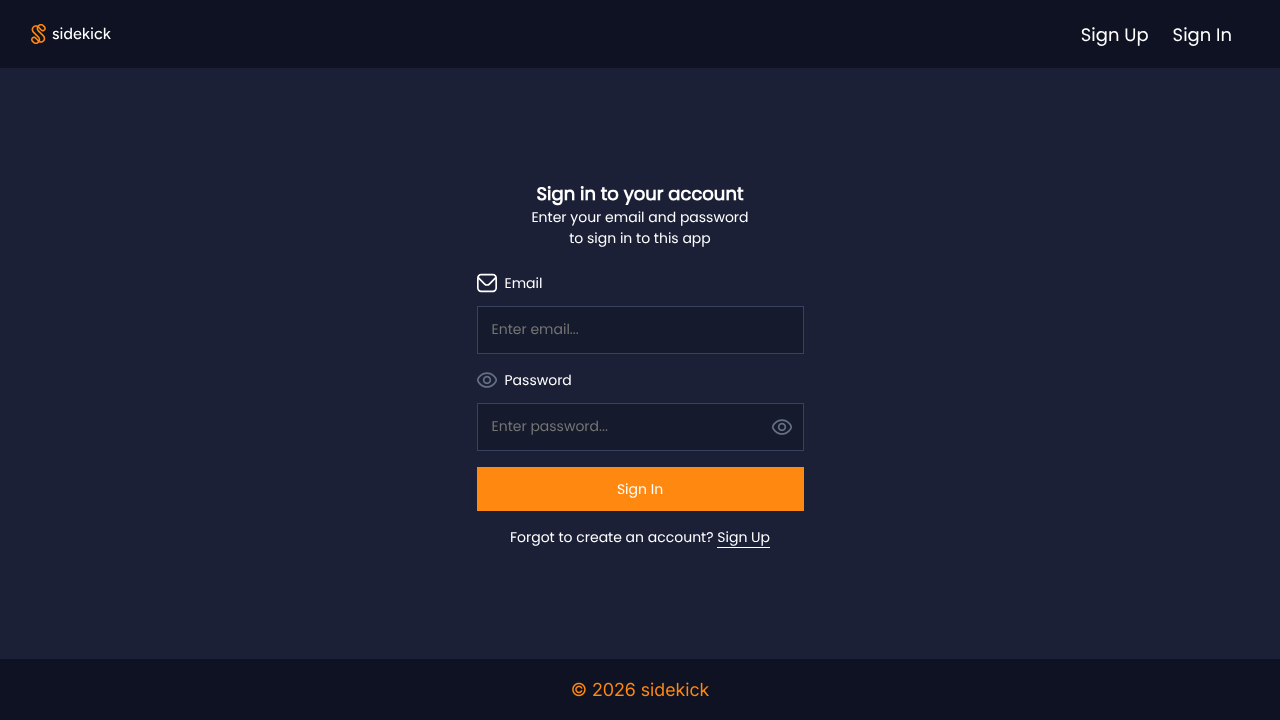
Sign In › shows validation when submitting empty form
This screenshot has width=1280, height=720.
Click the button "Sign In" at (641, 489), box [477,467,804,511]
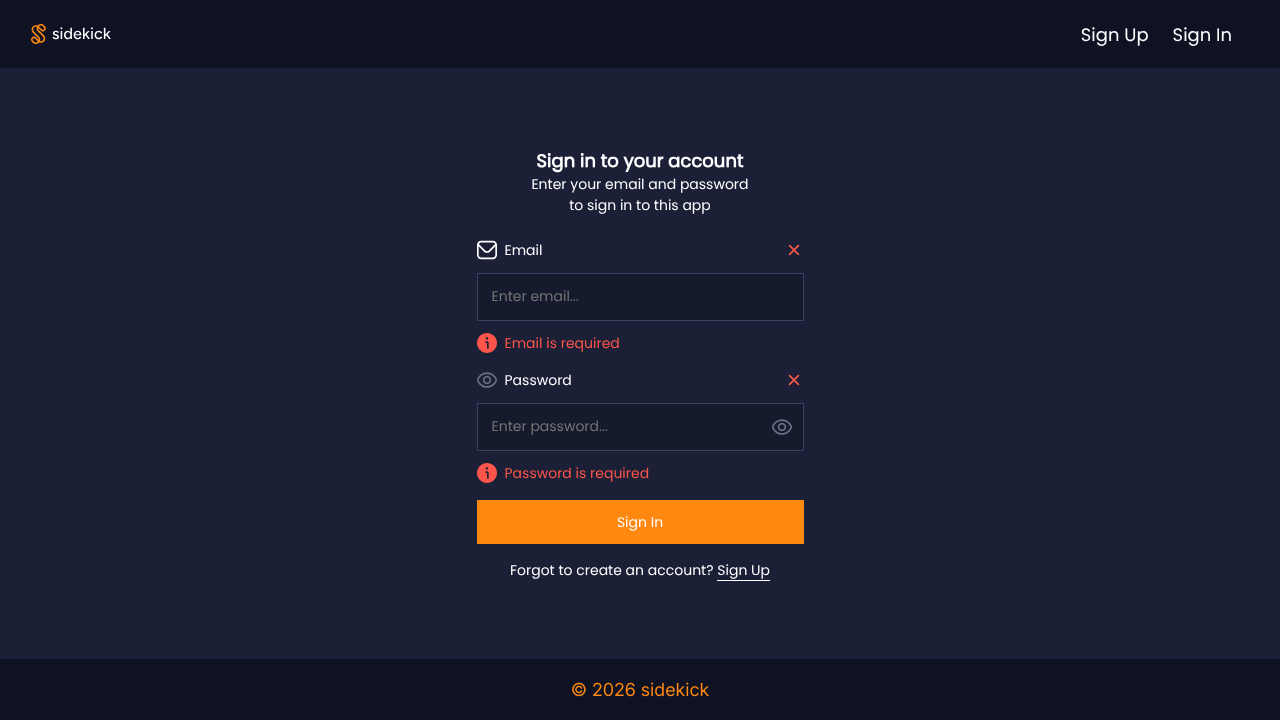
Result: the text "Email is required" is shown at [504,332,620,354]
